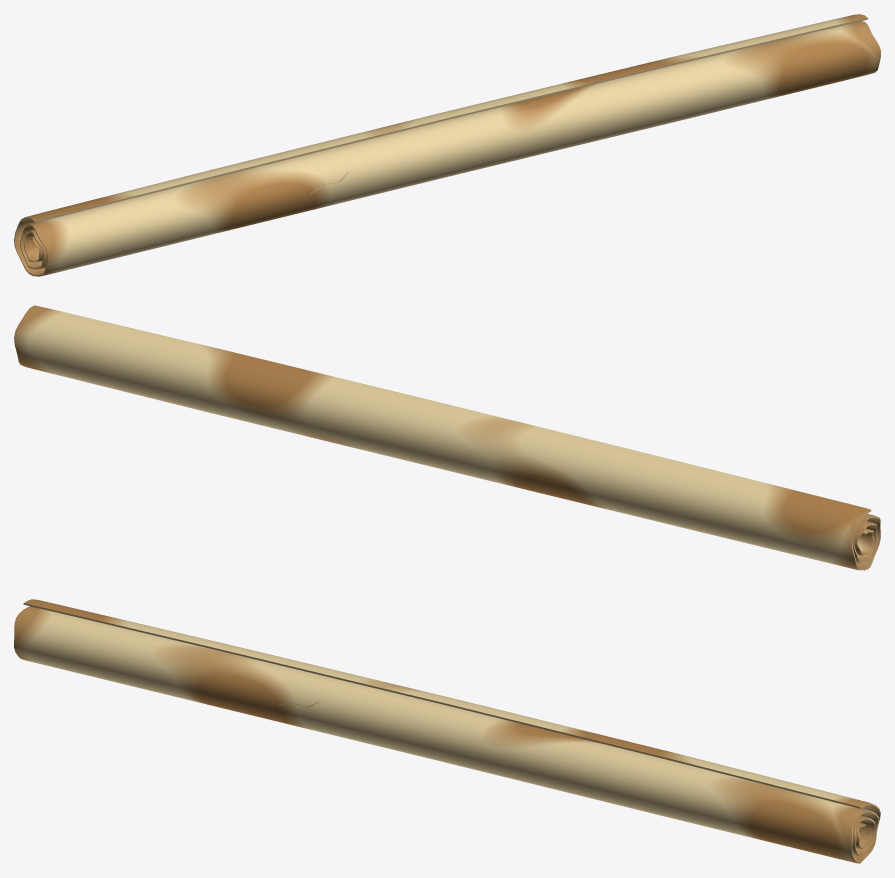
Rendered from chart_roll_02.glb.
3 renders of one model, top to bottom at view 1: azimuth 30°, elevation 25°; view 2: azimuth 150°, elevation 25°; view 3: azimuth 330°, elevation 25°, orthographic.
Parts seen in each view (by area): view 1: ChartRoll02; view 2: ChartRoll02; view 3: ChartRoll02.
Boxes of the visible parts, <box> form: ChartRoll02: <box>14,14,880,276</box>; ChartRoll02: <box>14,305,880,570</box>; ChartRoll02: <box>14,599,880,863</box>.
Size of the model in its own units: 0.6 by 0.04 by 0.04.
2 materials, 1 textured.
